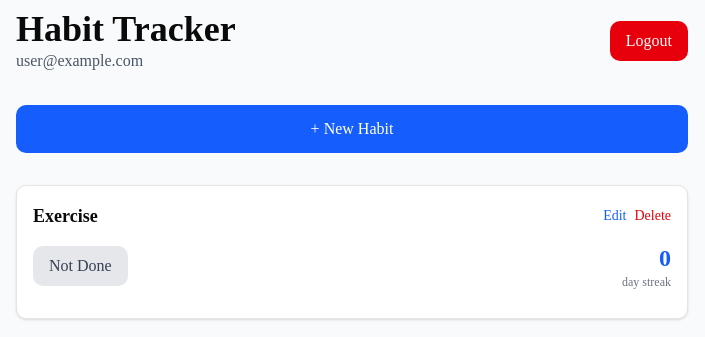
Test: habit form › toggles completion and updates the streak display
Step 1. Click the button with test id "habit-complete-exercise" → (80, 266), box [33,246,128,286]
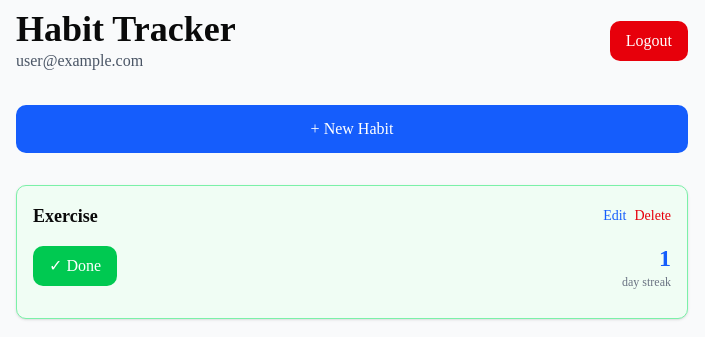
Result: the element with test id "habit-streak-exercise" shows "1" at [659,245,671,271]
